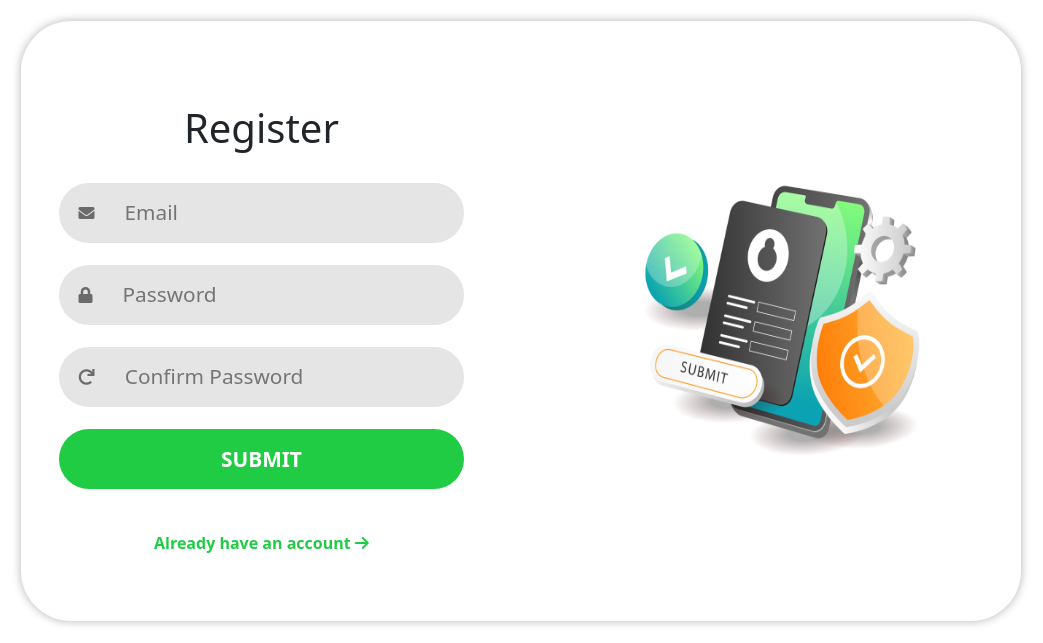
Register Component › should display error when email is invalid
The width and height of the screenshot is (1043, 643).
Step 1. Type "peterabv.com" into the field named "email" → (268,213), box x1=94 y1=197 x2=442 y2=228
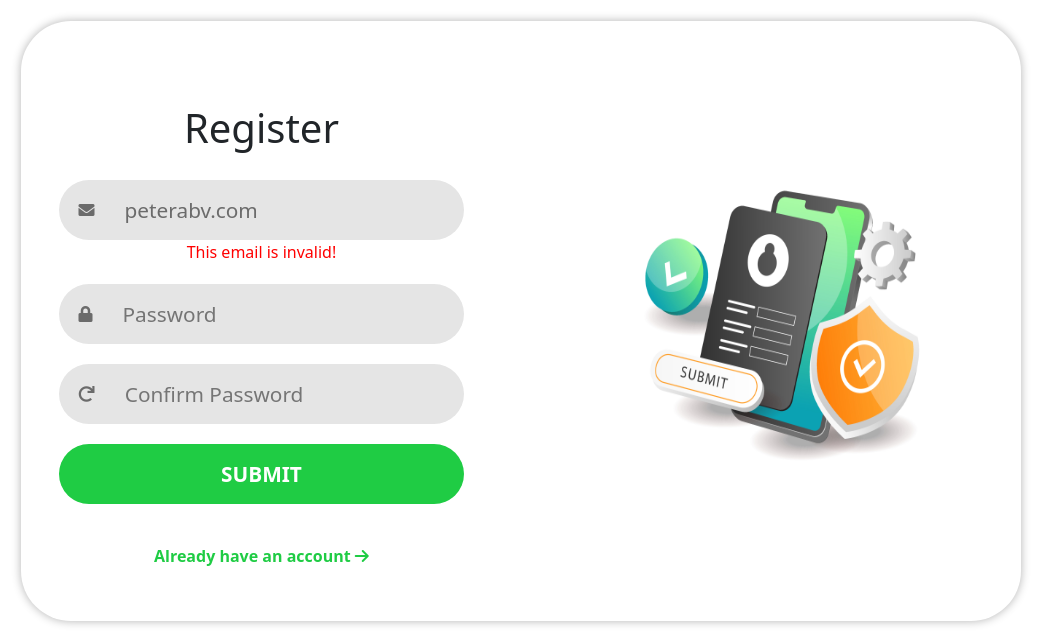
expect the text "This email is invalid!" is shown: met, box x1=187 y1=242 x2=336 y2=264
